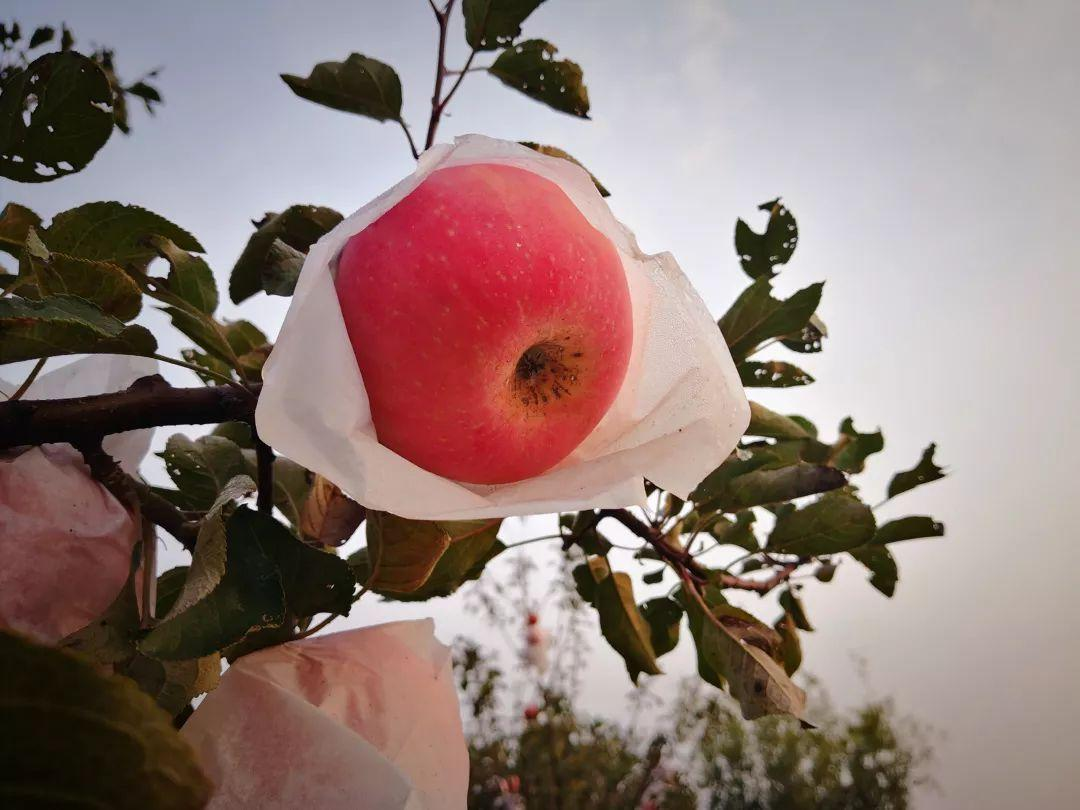apple: (326, 139, 633, 488)
